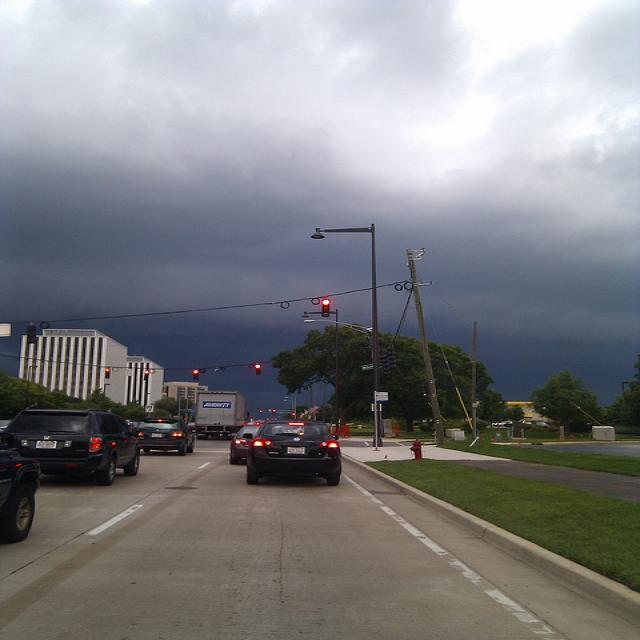fire_hydrant: (410, 438, 426, 460)
